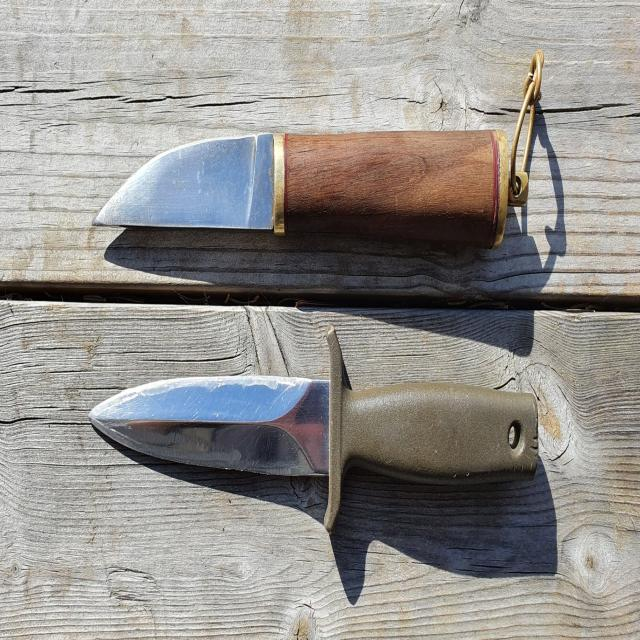Gun: (75, 306, 555, 602), (73, 44, 551, 278)
